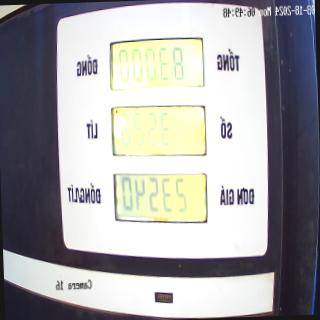screen: (105, 32, 212, 230)
